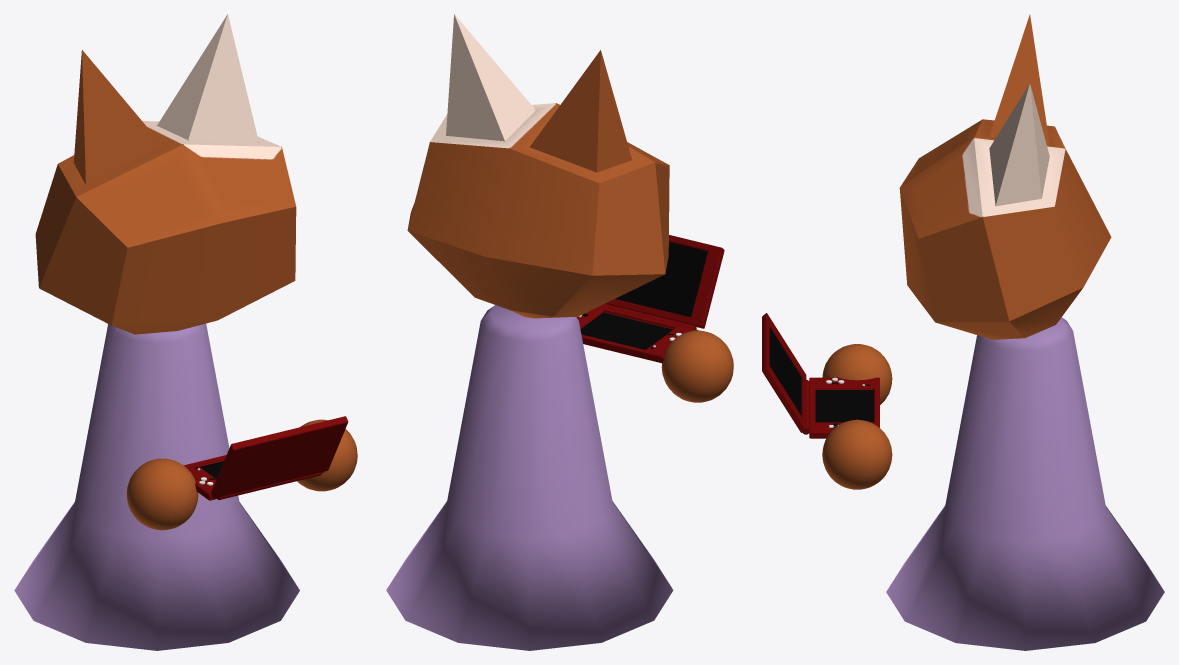
The model's file is lowpolycat.fbx.
3 views of the same model, side by side, from view 1: azimuth 30°, elevation 25°; view 2: azimuth 150°, elevation 25°; view 3: azimuth 270°, elevation 25° (orthographic). The views are drawn at different scales.
Visible parts, largest first — view 1: Face, Body, Top_screen, Hand, Bottom_screen; view 2: Body, Face, Top_screen, Hand, Bottom_screen; view 3: Body, Face, Hand, Bottom_screen, Top_screen.
Part boxes in pixels (left/top/right/bottom): Face: left=35, top=14, right=296, bottom=334; Body: left=14, top=323, right=299, bottom=650; Top_screen: left=211, top=416, right=348, bottom=498; Hand: left=126, top=419, right=357, bottom=530; Bottom_screen: left=184, top=455, right=323, bottom=500; Body: left=386, top=305, right=673, bottom=650; Face: left=407, top=14, right=669, bottom=318; Top_screen: left=605, top=235, right=724, bottom=328; Hand: left=661, top=330, right=733, bottom=402; Bottom_screen: left=576, top=306, right=698, bottom=363; Body: left=886, top=317, right=1164, bottom=650; Face: left=899, top=14, right=1111, bottom=339; Hand: left=822, top=344, right=892, bottom=489; Bottom_screen: left=809, top=377, right=879, bottom=438; Top_screen: left=762, top=313, right=806, bottom=432.
Bounding box in the file's own units: 150 × 316 × 212.
10 materials, 9 textured.
